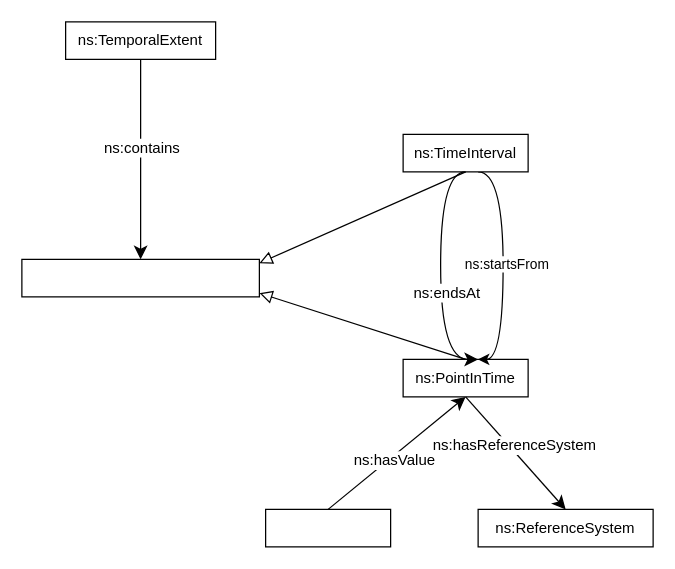
Image size: 675x569. Some labels were removed from this diagram. Each missing label, with the centre of its shape:
ns:ComplexTemporalExtent: (x=140, y=277)
ns:Value: (x=327, y=527)
